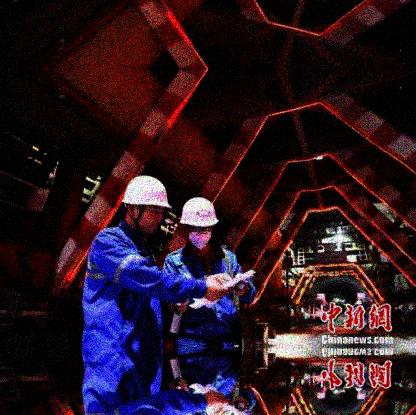helmet: (119, 174, 174, 236), (179, 199, 220, 250)
